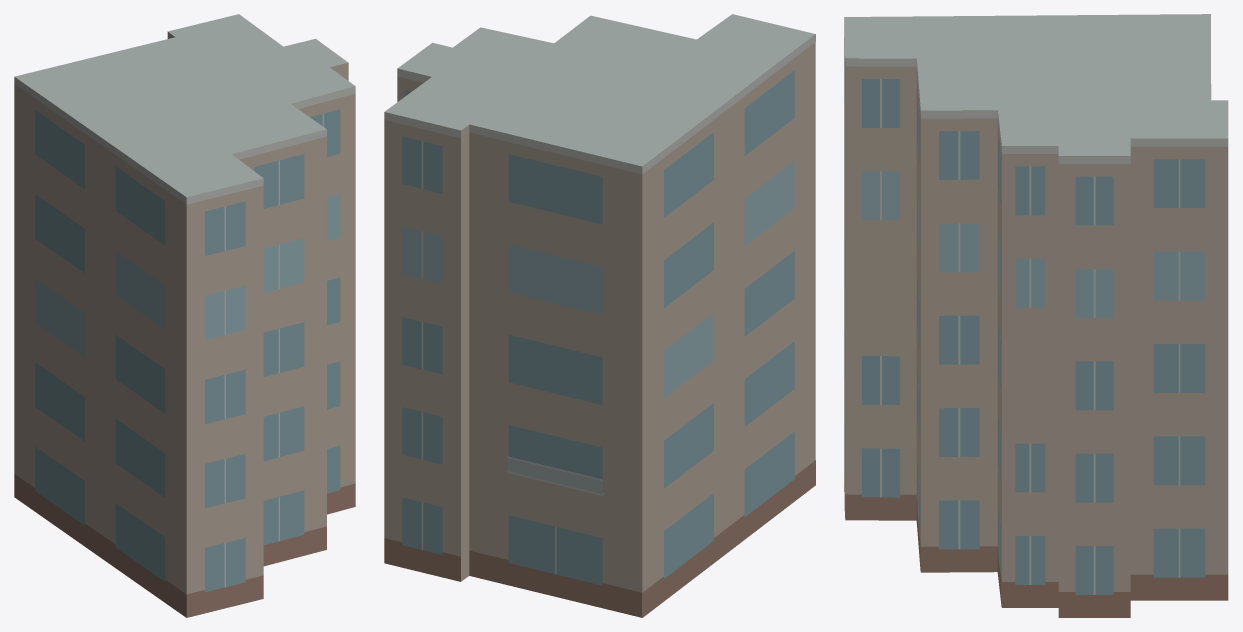
Rendered from survey-upis-32675896.glb.
3 views of the same model, side by side, from view 1: azimuth 30°, elevation 25°; view 2: azimuth 150°, elevation 25°; view 3: azimuth 270°, elevation 25° (orthographic). The views are drawn at different scales.
Parts seen in each view (by area): view 1: survey-upis-32675896.tmp; view 2: survey-upis-32675896.tmp; view 3: survey-upis-32675896.tmp.
Boxes of the visible parts, box(x1,y1,x2,y2) form: survey-upis-32675896.tmp: box(14, 14, 355, 617); survey-upis-32675896.tmp: box(384, 14, 815, 617); survey-upis-32675896.tmp: box(844, 14, 1228, 617).
Size of the model in its own units: 9.25 by 14 by 10.56.
